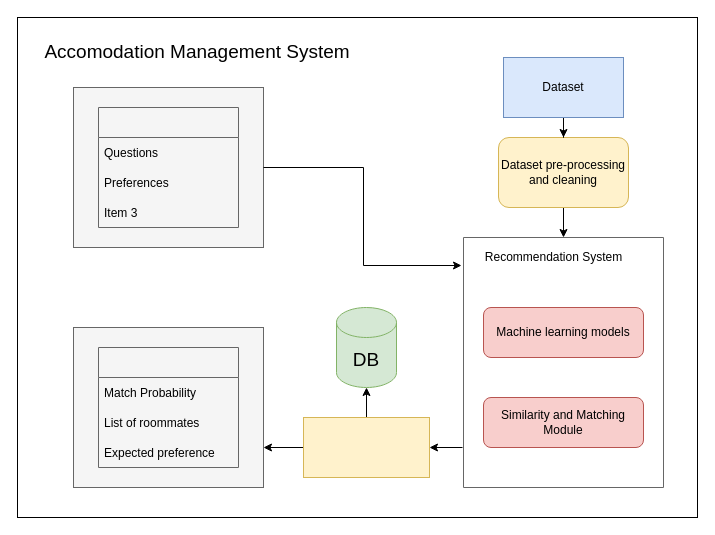
The diagram is 715 pixels wide and 535 high, and some of its shapes have lost their labels. Here are the shapes that lost their labels. From the top down, the box of each, then its label:
(98, 106, 238, 228): User Input
(98, 346, 238, 468): Output
(302, 416, 430, 478): Recommendations
